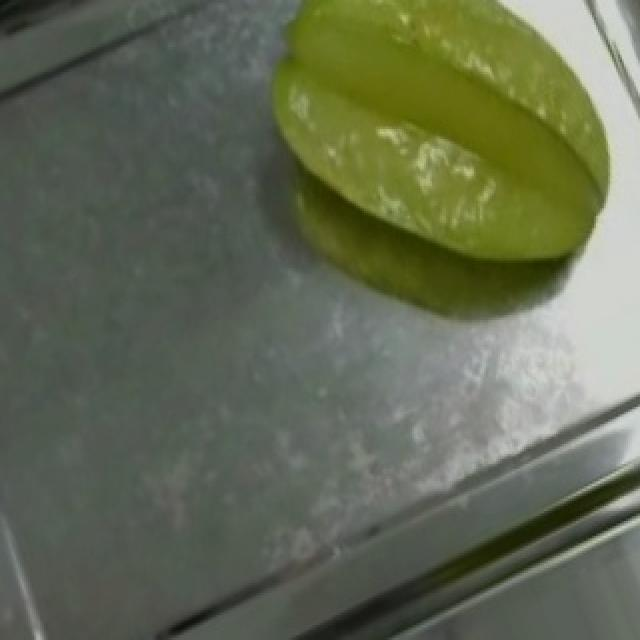fruit: (230, 0, 640, 325)
